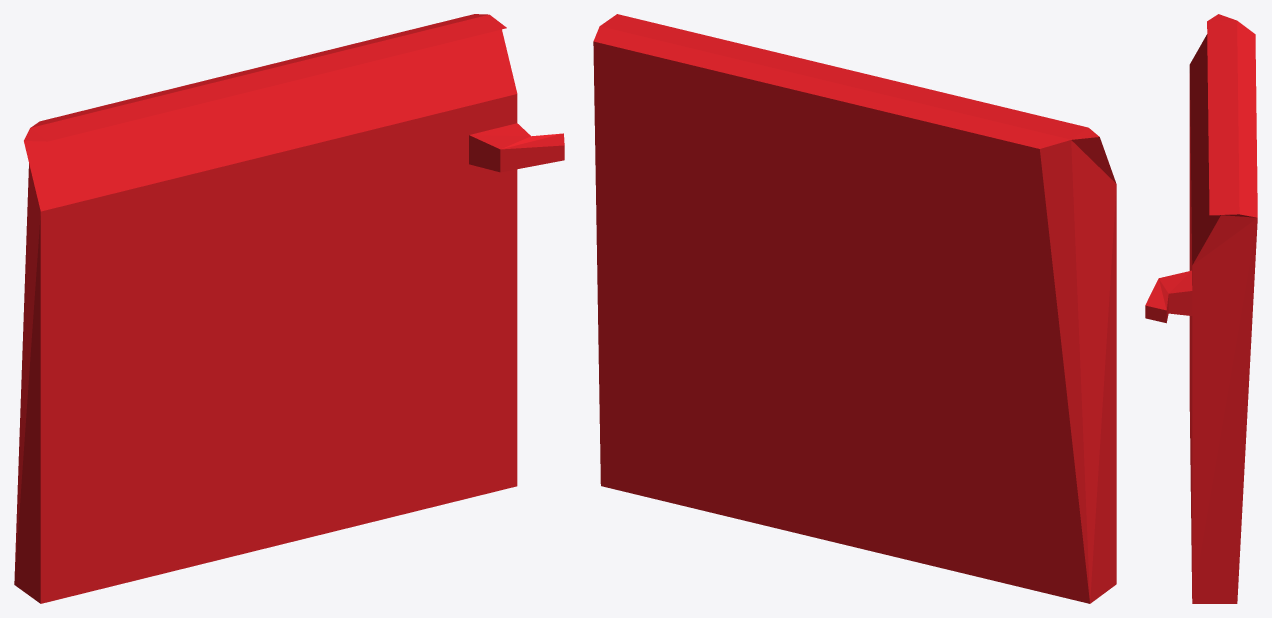
File: leftDoor.dae
The picture shows the model from 3 angles, left to right: view 1: azimuth 30°, elevation 25°; view 2: azimuth 150°, elevation 25°; view 3: azimuth 270°, elevation 25°; orthographic projection. The views are drawn at different scales.
Parts seen in each view (by area): view 1: LeftDoor; view 2: LeftDoor; view 3: LeftDoor.
Boxes of the visible parts, bbox=[...] form: LeftDoor: bbox=[14, 14, 564, 603]; LeftDoor: bbox=[593, 14, 1116, 603]; LeftDoor: bbox=[1145, 14, 1257, 603].
Size of the model in its own units: 0.8536 by 0.1893 by 0.7223.
Materials: 1 (1 with a texture image).
